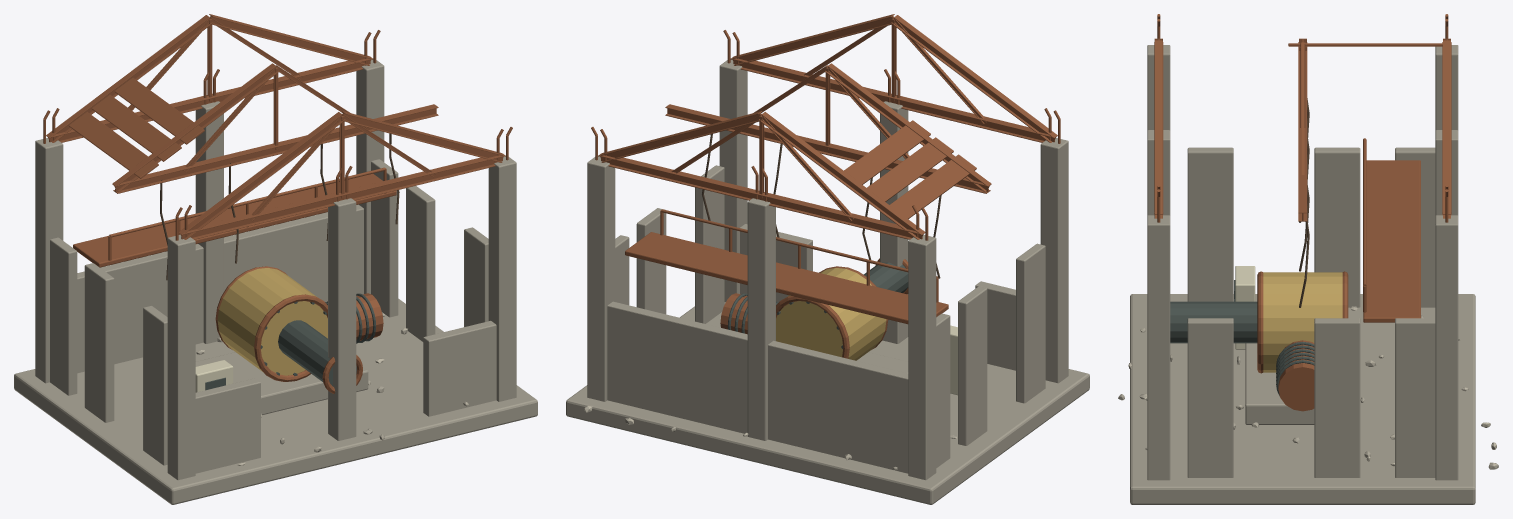
File: Ruined_Pump_House_Wasteland.glb
The picture shows the model from 3 angles, left to right: view 1: azimuth 30°, elevation 25°; view 2: azimuth 150°, elevation 25°; view 3: azimuth 270°, elevation 25°; orthographic projection. The views are drawn at different scales.
Visible parts, largest first — view 1: Structure; view 2: Structure; view 3: Structure.
Boxes of the visible parts, x1,y1,x2,y2 form: Structure: (14, 14, 537, 504); Structure: (566, 14, 1089, 504); Structure: (1118, 14, 1498, 504).
Bounding box in the file's own units: 16 × 14.14 × 13.23.
